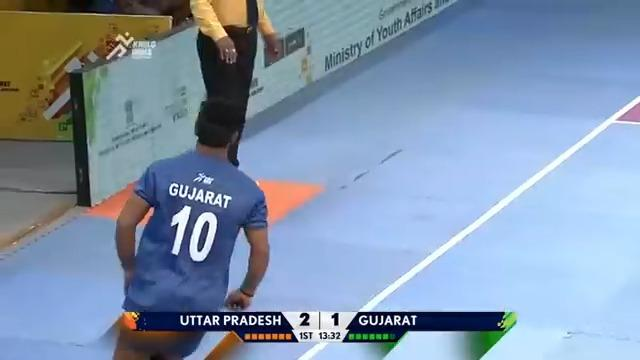Player: (111, 96, 270, 358)
referee: (188, 0, 281, 166)
